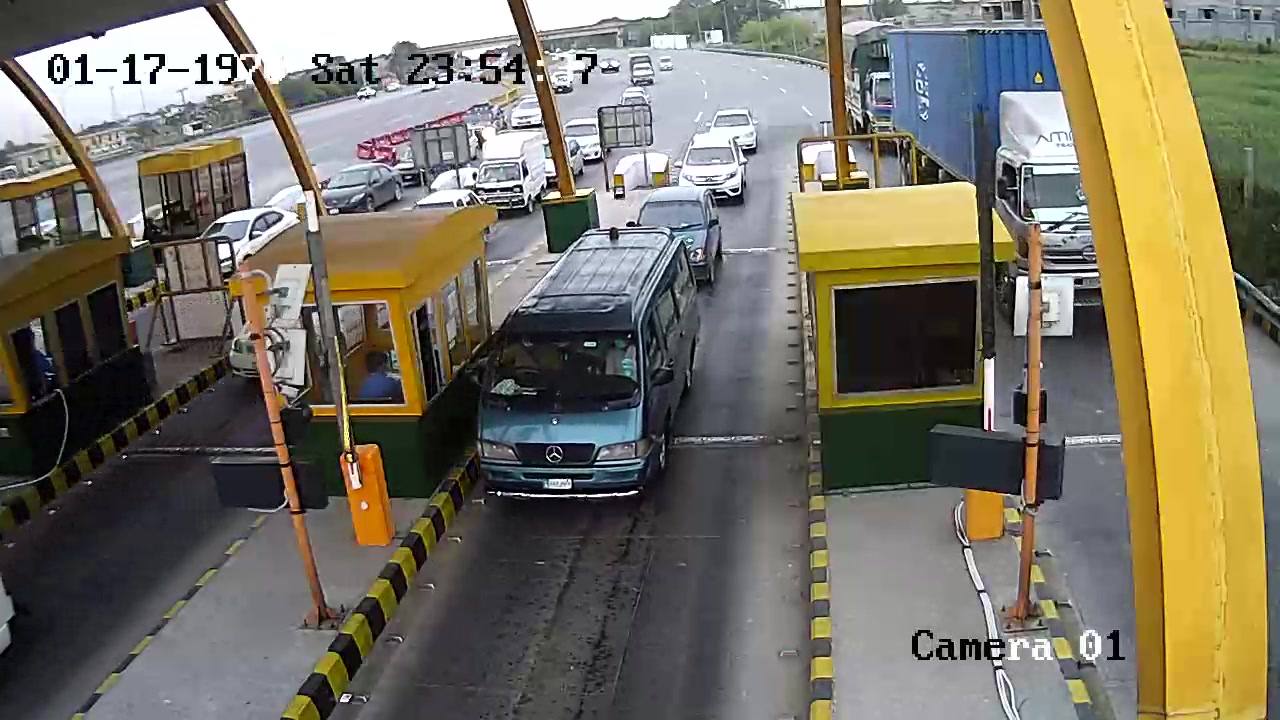F2: (480, 222, 701, 507)
